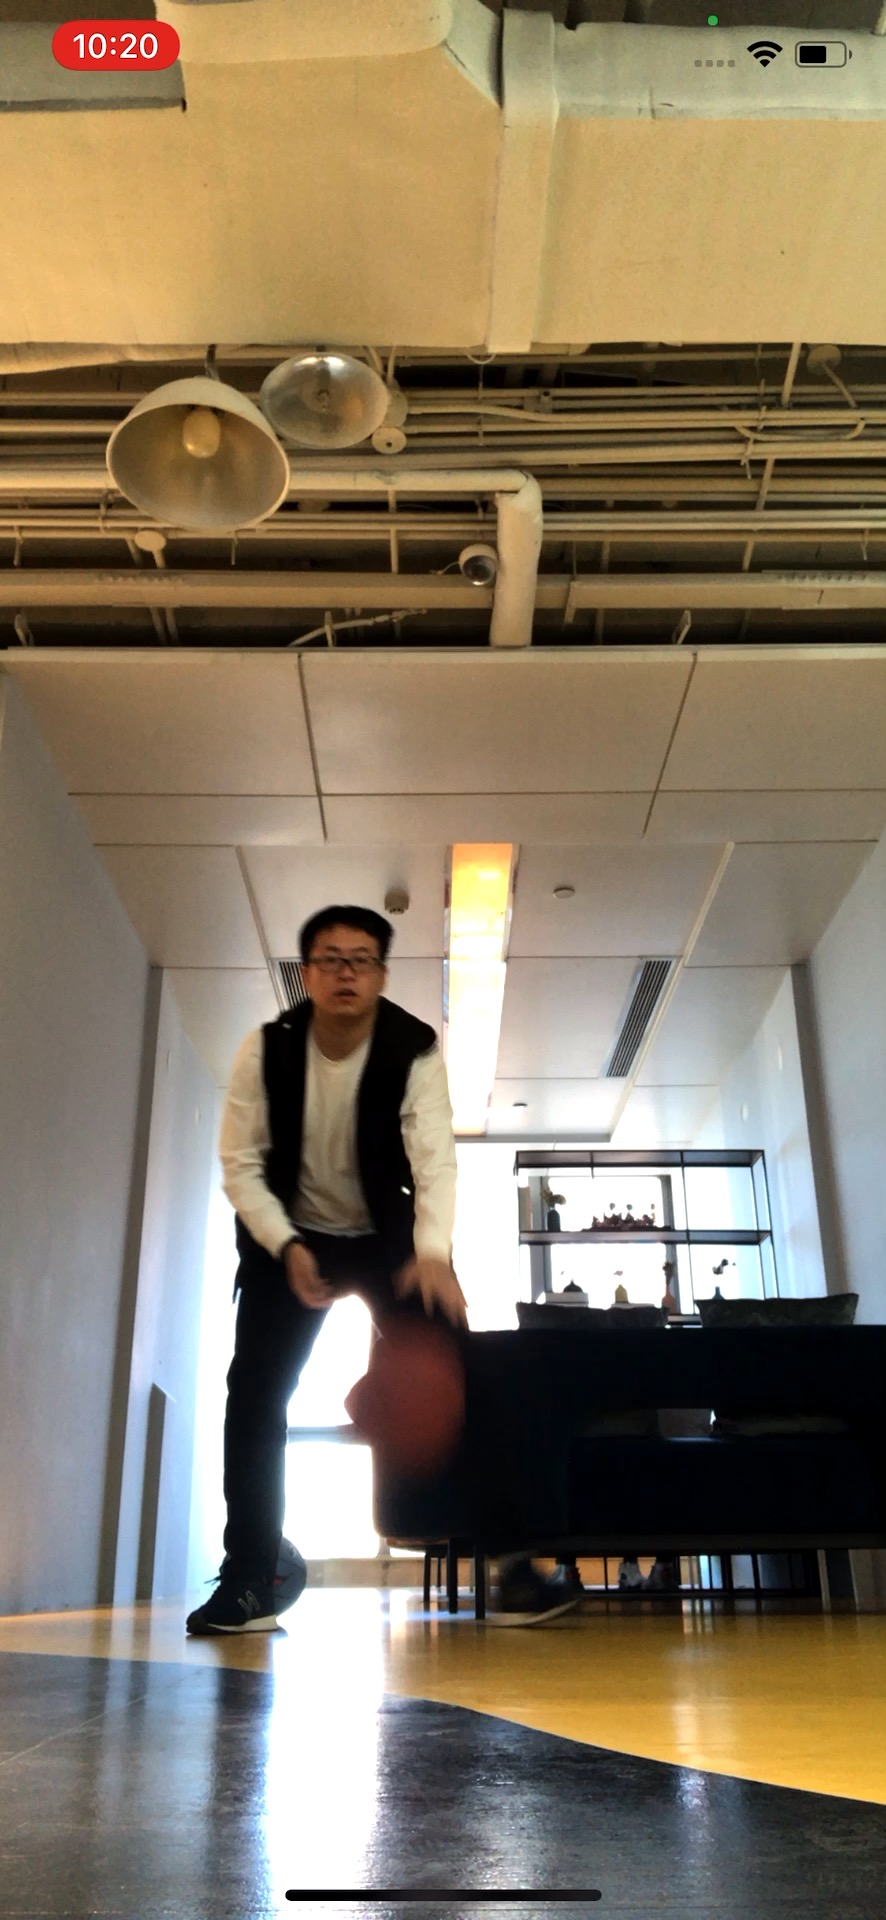ball: (367, 1327, 467, 1474)
